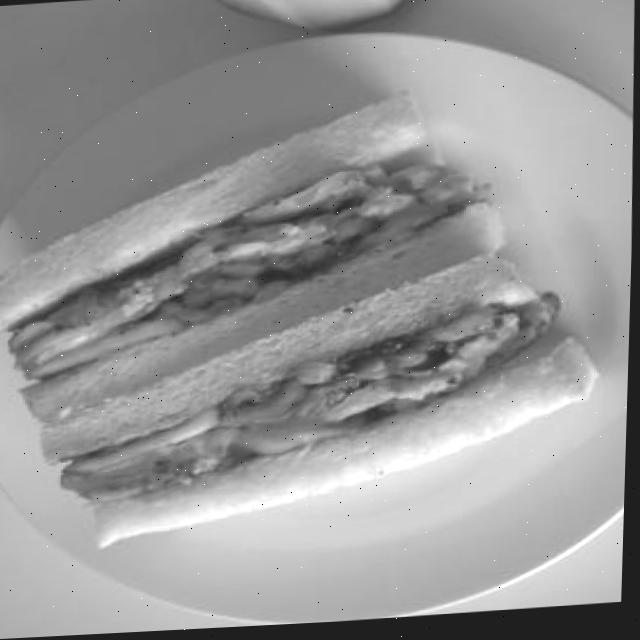三明治: (0, 83, 596, 563)
